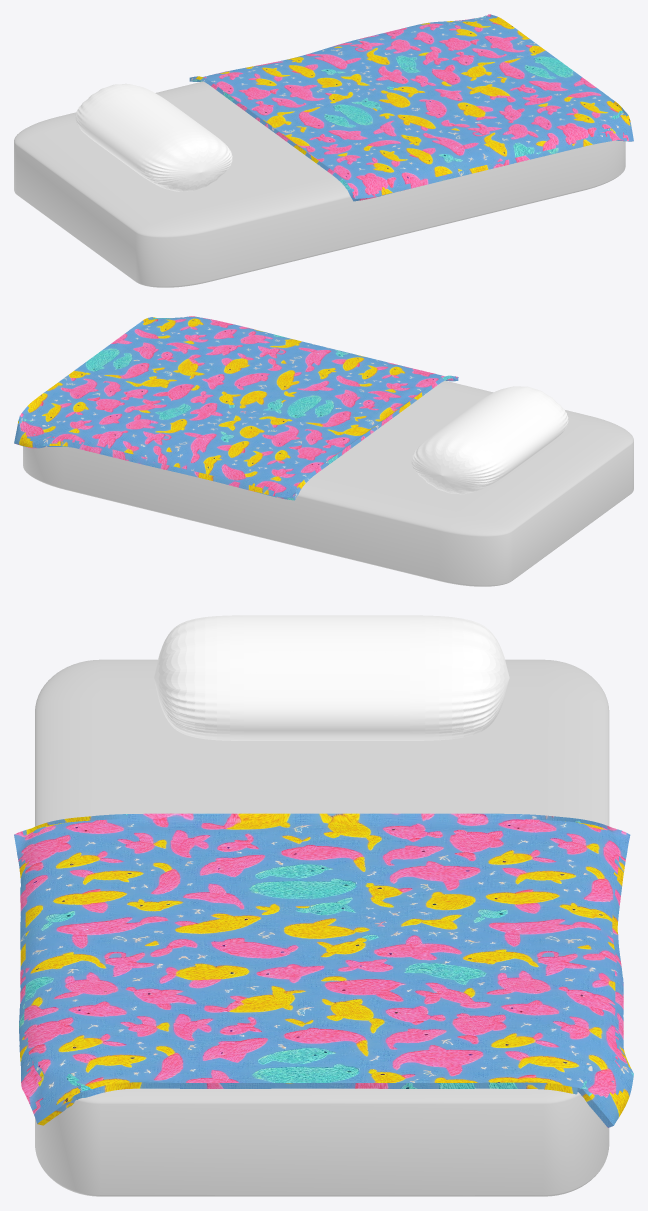
File: kasur lesehan.glb
3 views of the same model, one above another, from view 1: azimuth 30°, elevation 25°; view 2: azimuth 150°, elevation 25°; view 3: azimuth 270°, elevation 25° (orthographic). The views are drawn at different scales.
Visible parts, largest first — view 1: Cube, Plane, Cube.003; view 2: Cube, Plane, Cube.003; view 3: Plane, Cube, Cube.003.
Boxes of the visible parts, x1,y1,x2,y2 form: Cube: [14, 20, 625, 287]; Plane: [189, 14, 633, 201]; Cube.003: [75, 83, 232, 191]; Cube: [23, 380, 633, 586]; Plane: [14, 316, 458, 500]; Cube.003: [411, 386, 568, 494]; Plane: [14, 813, 633, 1127]; Cube: [35, 659, 609, 1196]; Cube.003: [154, 615, 509, 740].
Size of the model in its own units: 4.74 by 1.06 by 2.81.
Materials: 3 (1 with a texture image).
